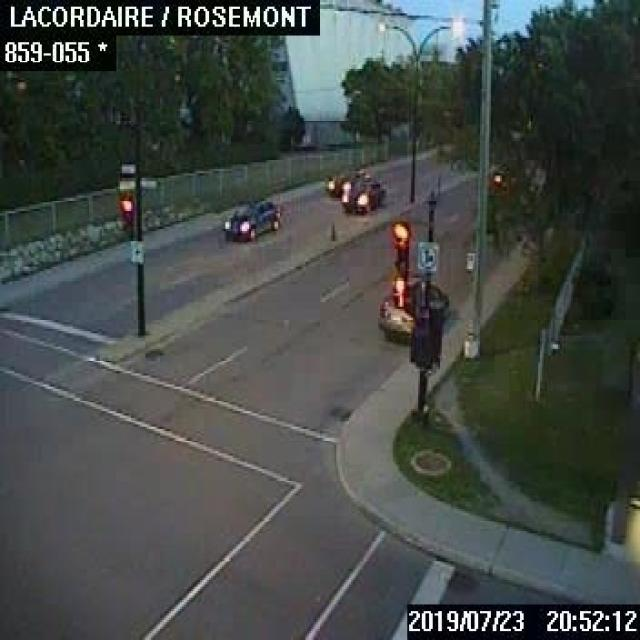vehicle: (378, 280, 448, 336), (223, 197, 279, 240), (339, 181, 382, 209), (326, 168, 368, 193)
